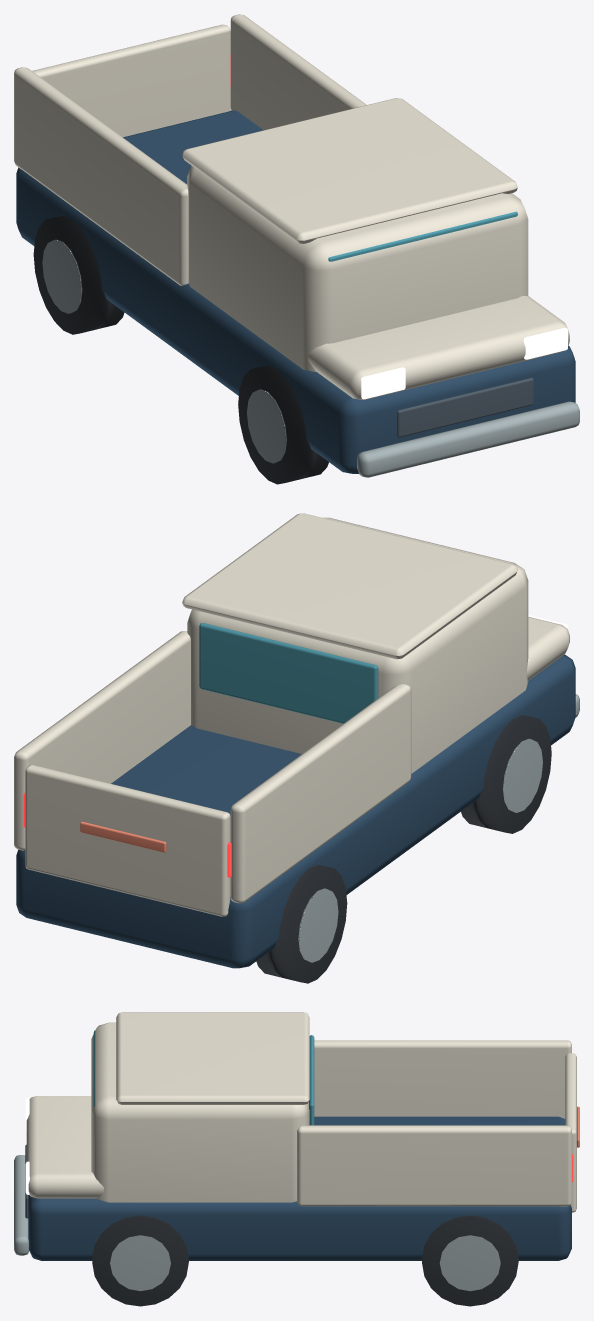
Rendered from HL_Car_DocksidePickup.fbx.
3 renders of one model, top to bottom at view 1: azimuth 30°, elevation 25°; view 2: azimuth 150°, elevation 25°; view 3: azimuth 270°, elevation 25°, orthographic. The views are drawn at different scales.
Visible parts, largest first — view 1: Pickup | painted cab, Pickup | deep chassis, Pickup | high roof, Pickup | bed side wall, Pickup | tailgate, Pickup | engine hood, Pickup | bed side wall.001, Pickup | satin front bumper, Pickup | all-terrain tyre, Pickup | all-terrain tyre.001, Pickup | deep grille, Pickup | alloy rim (+4 smaller); view 2: Pickup | deep chassis, Pickup | high roof, Pickup | painted cab, Pickup | tailgate, Pickup | bed side wall, Pickup | bed side wall.001, Pickup | rear glass, Pickup | all-terrain tyre.001, Pickup | all-terrain tyre, Pickup | alloy rim.001, Pickup | alloy rim, Pickup | engine hood (+1 smaller); view 3: Pickup | deep chassis, Pickup | bed side wall.001, Pickup | painted cab, Pickup | bed side wall, Pickup | high roof, Pickup | engine hood, Pickup | all-terrain tyre.003, Pickup | all-terrain tyre.002, Pickup | alloy rim.003, Pickup | alloy rim.002, Pickup | satin front bumper, Pickup | tailgate (+1 smaller).
Boxes of the visible parts, x1,y1,x2,y2 form: Pickup | painted cab: (187,165,528,371); Pickup | deep chassis: (16,110,575,473); Pickup | high roof: (182,98,517,243); Pickup | bed side wall: (14,67,188,285); Pickup | tailgate: (32,24,230,137); Pickup | engine hood: (308,296,569,399); Pickup | bed side wall.001: (230,14,366,130); Pickup | satin front bumper: (357,401,579,477); Pickup | all-terrain tyre: (238,365,328,484); Pickup | all-terrain tyre.001: (33,216,124,334); Pickup | deep grille: (397,378,533,437); Pickup | alloy rim: (247,389,286,463); Pickup | deep chassis: (16,654,575,968); Pickup | high roof: (182,513,517,659); Pickup | painted cab: (187,517,528,773); Pickup | tailgate: (25,765,230,916); Pickup | bed side wall: (230,684,411,903); Pickup | bed side wall.001: (14,631,190,850); Pickup | rear glass: (199,623,378,723); Pickup | all-terrain tyre.001: (256,864,347,983); Pickup | all-terrain tyre: (461,715,551,833); Pickup | alloy rim.001: (298,888,338,962); Pickup | alloy rim: (503,738,542,812); Pickup | engine hood: (527,617,569,680); Pickup | deep chassis: (28,1116,571,1260); Pickup | bed side wall.001: (297,1125,571,1206); Pickup | painted cab: (91,1022,309,1202); Pickup | bed side wall: (314,1040,571,1118); Pickup | high roof: (116,1012,309,1104); Pickup | engine hood: (26,1096,103,1198); Pickup | all-terrain tyre.003: (422,1215,518,1306); Pickup | all-terrain tyre.002: (92,1215,188,1306); Pickup | alloy rim.003: (439,1235,500,1291); Pickup | alloy rim.002: (110,1235,170,1291); Pickup | satin front bumper: (14,1155,29,1255); Pickup | tailgate: (565,1053,576,1212).
Bounding box in the file's own units: 229 × 213 × 539.
